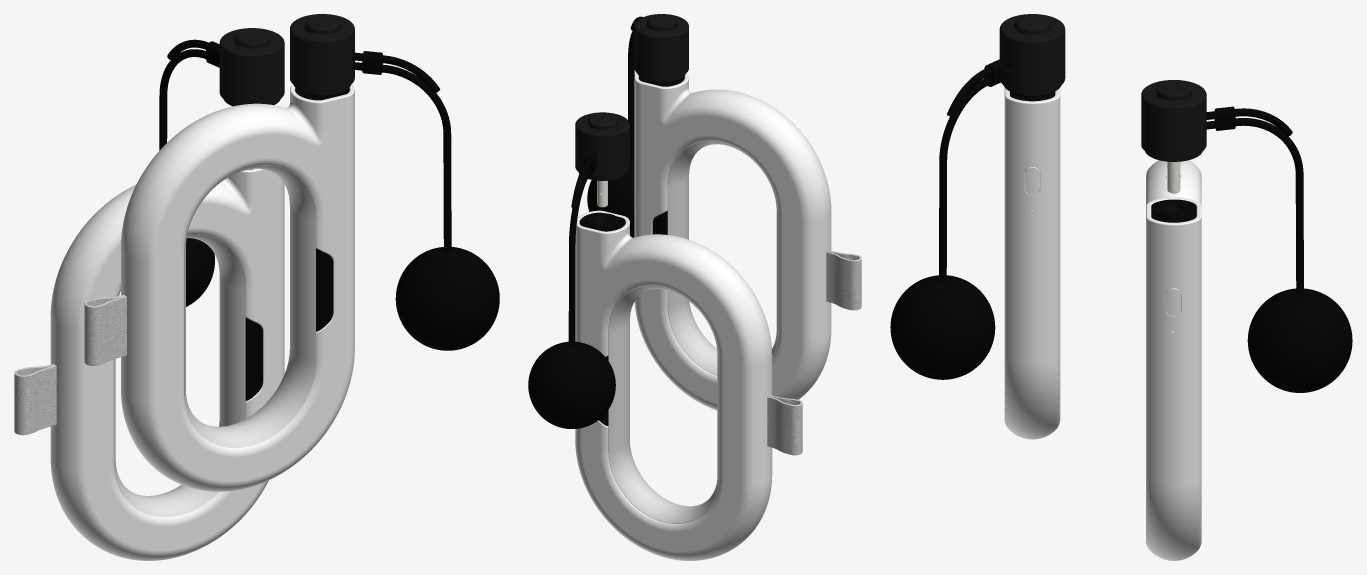
Rendered from diafitty.glb.
The picture shows the model from 3 angles, left to right: view 1: azimuth 30°, elevation 25°; view 2: azimuth 150°, elevation 25°; view 3: azimuth 270°, elevation 25°; orthographic projection. The views are drawn at different scales.
Visible parts, largest first — view 1: Full set.051, Full set.025, Full set.039, Full set.026, Full set.013, Clear, Clear.002, Full set.016, Full set.042, Full set.031, Full set, Full set.005 (+4 smaller); view 2: Full set.025, Full set.051, Full set.013, Full set, Full set.039, Clear.002, Clear, Full set.016, Full set.042, Full set.026, Full set.005, Full set.031 (+2 smaller); view 3: Full set.025, Full set.051, Full set.026, Full set, Clear, Clear.002, Full set.005, Full set.031, Full set.003, Full set.029, Full set.015.
Part boxes in pixels (x1,y1,x2,y2): Full set.051: (121, 84, 354, 491); Full set.025: (50, 168, 284, 560); Full set.039: (184, 165, 315, 448); Full set.026: (395, 247, 499, 350); Full set.013: (114, 234, 245, 517); Clear: (219, 28, 284, 104); Clear.002: (290, 14, 354, 92); Full set.016: (14, 364, 56, 435); Full set.042: (84, 295, 126, 365); Full set.031: (352, 52, 451, 253); Full set: (186, 238, 214, 306); Full set.005: (159, 39, 208, 150); Full set.025: (575, 210, 772, 560); Full set.051: (634, 73, 831, 410); Full set.013: (608, 286, 718, 523); Full set: (528, 341, 615, 428); Full set.039: (667, 141, 777, 375); Clear.002: (634, 14, 688, 79); Clear: (575, 112, 629, 178); Full set.016: (767, 395, 802, 455); Full set.042: (826, 250, 861, 310); Full set.026: (587, 160, 634, 237); Full set.005: (568, 152, 596, 346); Full set.031: (628, 16, 642, 160); Full set.025: (1146, 160, 1201, 560); Full set.051: (1004, 88, 1060, 439); Full set.026: (890, 275, 995, 379); Full set: (1247, 288, 1352, 392); Clear: (1141, 80, 1206, 158); Clear.002: (999, 14, 1065, 92); Full set.005: (1206, 108, 1303, 294); Full set.031: (939, 58, 1011, 281); Full set.003: (1156, 80, 1191, 100); Full set.029: (1014, 15, 1050, 34); Full set.015: (1154, 200, 1193, 219).
Bounding box in the file's own units: 0.1609 × 0.2398 × 0.1764.
Materials: 46 (2 with a texture image).
